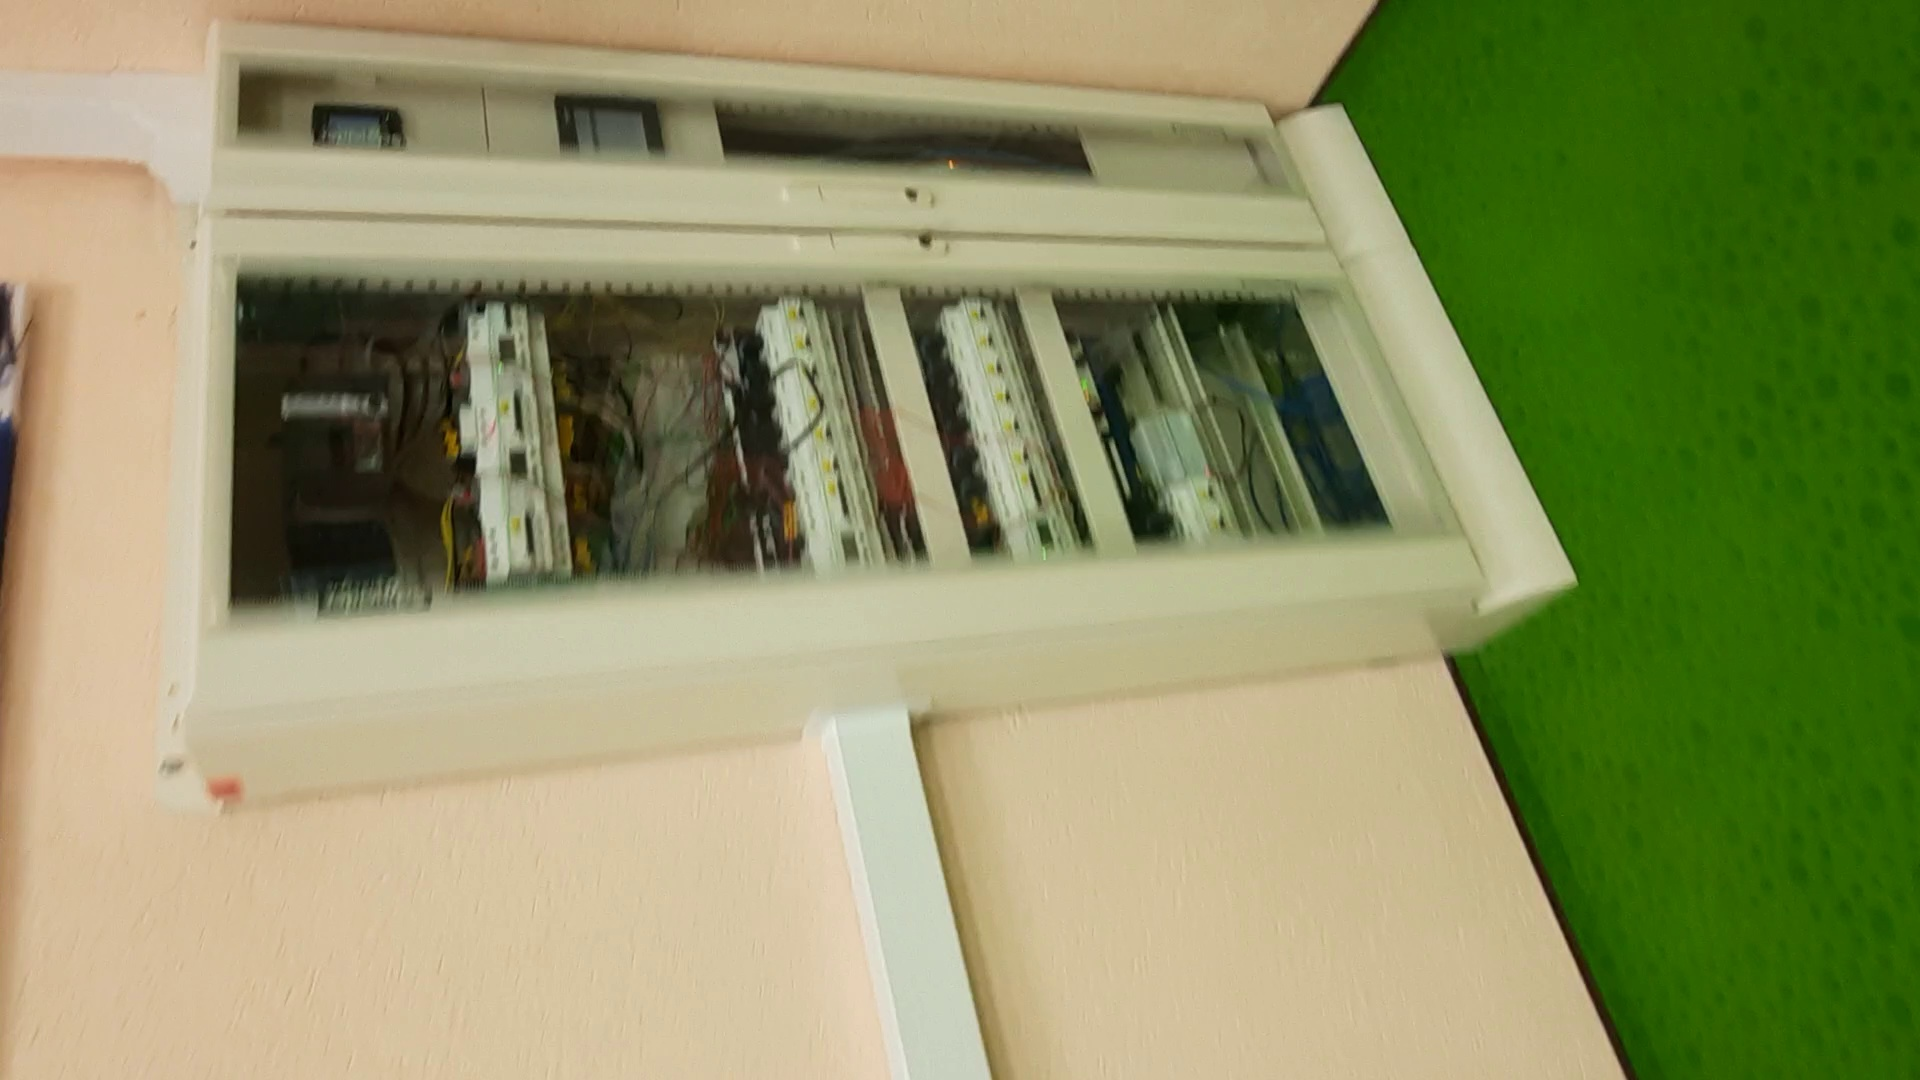stand1: (142, 3, 1582, 808)
